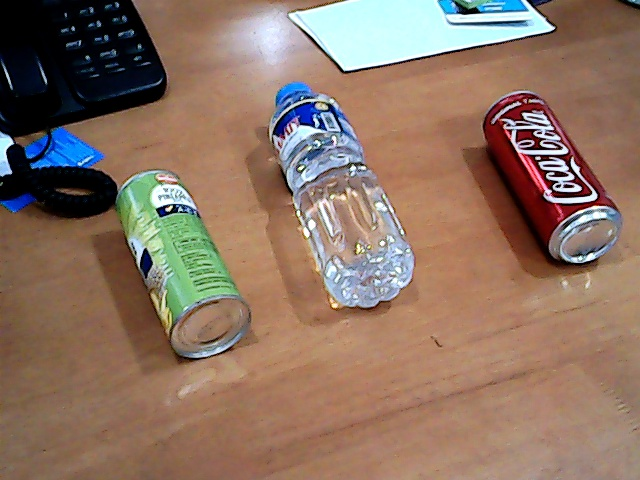Cola: (468, 75, 638, 299)
Pine Juice: (81, 166, 259, 364)
Summit Water: (237, 69, 434, 321)
